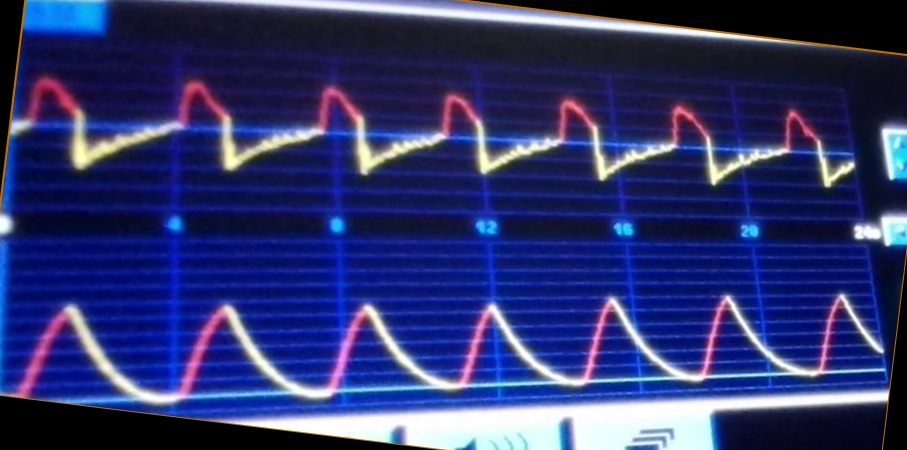Accumulation Flow: (19, 72, 855, 205)
Volume: (21, 287, 881, 406)
